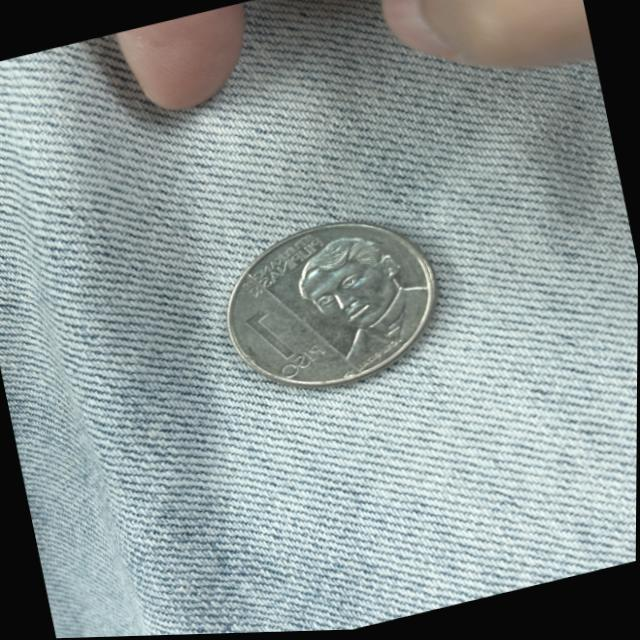1_New_Front: (237, 293, 329, 387)
